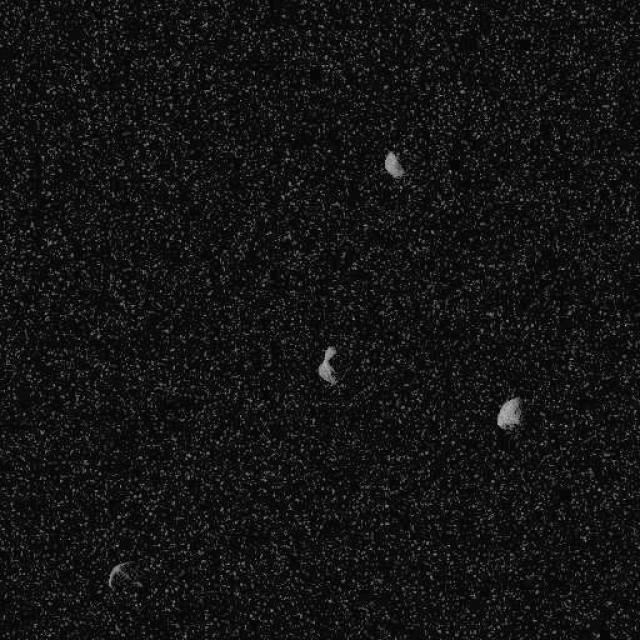D2: (106, 560, 142, 592), (495, 395, 523, 430), (316, 345, 339, 385), (382, 150, 403, 179)
